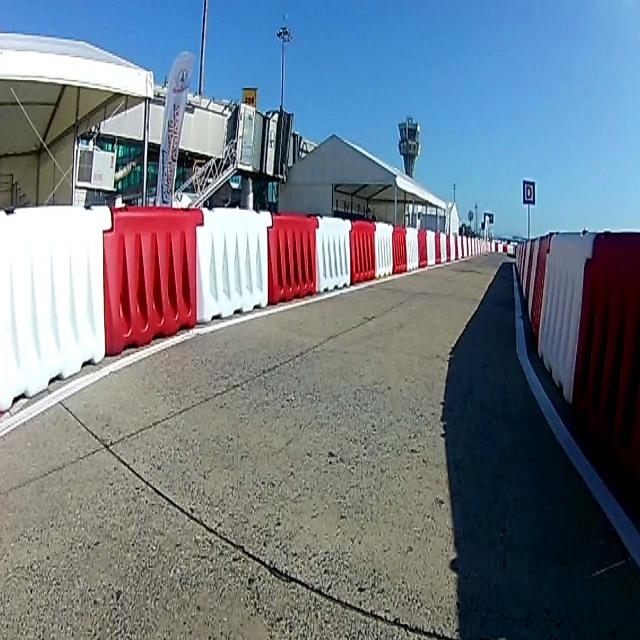durak: (522, 180, 536, 207)
